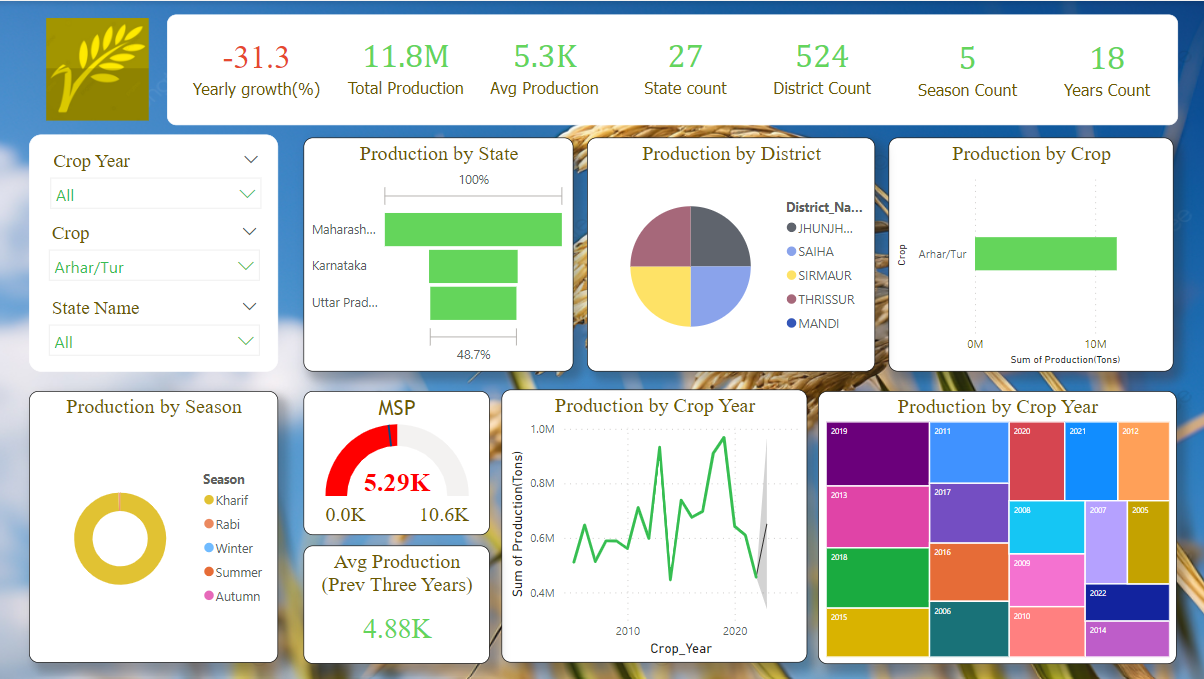

What the dashboard file says about the page in this screenshot:
{"tool":"powerbi","page":{"name":"Page 3","canvas":[1280,720],"ordinal":0},"visuals":[{"type":"shape","box":[31.8,141.5,263.8,251.1],"z":0},{"type":"shape","box":[178,14.3,1071.3,117.6],"z":1000},{"type":"lineChart","title":"Production by Crop Year","fields":{"Category":["apy_1[1].Crop_Year"],"Y":["Sum(apy_1[1].Production(Tons))"]},"box":[532.5,411.7,324.2,289.3],"z":2000},{"type":"treemap","title":"Production by Crop Year","fields":{"Group":["apy_1[1].Crop_Year"],"Values":["Sum(apy_1[1].Production(Tons))"]},"box":[868.6,413.2,379.9,289.3],"z":3000},{"type":"donutChart","title":"Production by Season","fields":{"Category":["apy_1[1].Season"],"Y":["Sum(apy_1[1].Production(Tons))"]},"box":[32.5,413.2,263.8,287.7],"z":4000},{"type":"barChart","title":"Production by Crop","fields":{"Category":["apy_1[1].Crop"],"Y":["Sum(apy_1[1].Production(Tons))"]},"box":[943.2,144.6,302,247.9],"z":5000},{"type":"funnel","title":"Production by State","fields":{"Y":["Sum(apy_1[1].Production(Tons))"],"Category":["apy_1[1].State_Name"]},"box":[322.6,144.6,286.1,247.9],"z":6000},{"type":"slicer","fields":{"Values":["apy_1[1].State_Name"]},"box":[43,307.6,243,74.7],"z":7000},{"type":"slicer","fields":{"Values":["apy_1[1].Crop_Year"]},"box":[44.5,151.8,243,74.7],"z":8000},{"type":"slicer","fields":{"Values":["apy_1[1].Crop"]},"box":[43,229.1,243,75],"z":9000},{"type":"card","title":"Total Production","fields":{"Values":["Crop_data.Total Production"]},"box":[357.6,12.7,146.2,108.1],"z":10000},{"type":"card","title":"Avg Production","fields":{"Values":["Crop_data.Avg Production"]},"box":[506.1,13.3,144.6,108.1],"z":11000},{"type":"card","title":"State #","fields":{"Values":["Crop_data.State count"]},"box":[655.5,13.3,144.6,108.1],"z":12000},{"type":"card","title":"District #","fields":{"Values":["Crop_data.District Count"]},"box":[798.8,13.3,144.6,108.1],"z":13000},{"type":"card","title":"Season #","fields":{"Values":["Crop_data.Season Count"]},"box":[954.3,14.8,144.6,108.1],"z":14000},{"type":"card","title":"Years #","fields":{"Values":["Crop_data.Years Count"]},"box":[1102.1,14.8,144.6,108.1],"z":15000},{"type":"card","title":"Avg Production (Prev Three Years)","fields":{"Values":["Crop_data.AvgProductionLastThreeYears"]},"box":[322.6,577,197.1,125.6],"z":16000},{"type":"gauge","title":"MSP","fields":{"Y":["Crop_data.Avg Production"],"TargetValue":["Crop_data.AvgProductionLastThreeYears"]},"box":[322.6,413.2,197.1,152.6],"z":17000},{"type":"card","title":"Growth this year(%)","fields":{"Values":["Crop_data.growth rate"]},"box":[187.5,14.3,170.1,106.5],"z":19000},{"type":"pieChart","title":"Production by District","fields":{"Category":["apy_1[1].District_Name"],"Y":["Sum(apy_1[1].Production(Tons))"]},"box":[623,144.6,305.2,247.9],"z":19002},{"type":"image","box":[20.7,12.7,166.9,119.2],"z":19003}]}

Visuals, with their boxes in screenshot pixels (x1, y1, x2, y2), scaled from the page's 1280x720 canvas onto the 1204x679 screenshot:
shape: locate(30, 133, 278, 370)
shape: locate(167, 13, 1175, 124)
"Production by Crop Year" lineChart: locate(501, 388, 806, 661)
"Production by Crop Year" treemap: locate(817, 390, 1174, 662)
"Production by Season" donutChart: locate(31, 390, 279, 661)
"Production by Crop" barChart: locate(887, 136, 1171, 370)
"Production by State" funnel: locate(303, 136, 573, 370)
slicer - apy_1[1].State_Name: locate(40, 290, 269, 361)
slicer - apy_1[1].Crop_Year: locate(42, 143, 270, 214)
slicer - apy_1[1].Crop: locate(40, 216, 269, 287)
"Total Production" card: locate(336, 12, 474, 114)
"Avg Production" card: locate(476, 13, 612, 114)
"State #" card: locate(617, 13, 753, 114)
"District #" card: locate(751, 13, 887, 114)
"Season #" card: locate(898, 14, 1034, 116)
"Years #" card: locate(1037, 14, 1173, 116)
"Avg Production (Prev Three Years)" card: locate(303, 544, 489, 663)
"MSP" gauge: locate(303, 390, 489, 534)
"Growth this year(%)" card: locate(176, 13, 336, 114)
"Production by District" pieChart: locate(586, 136, 873, 370)
image: locate(19, 12, 176, 124)
